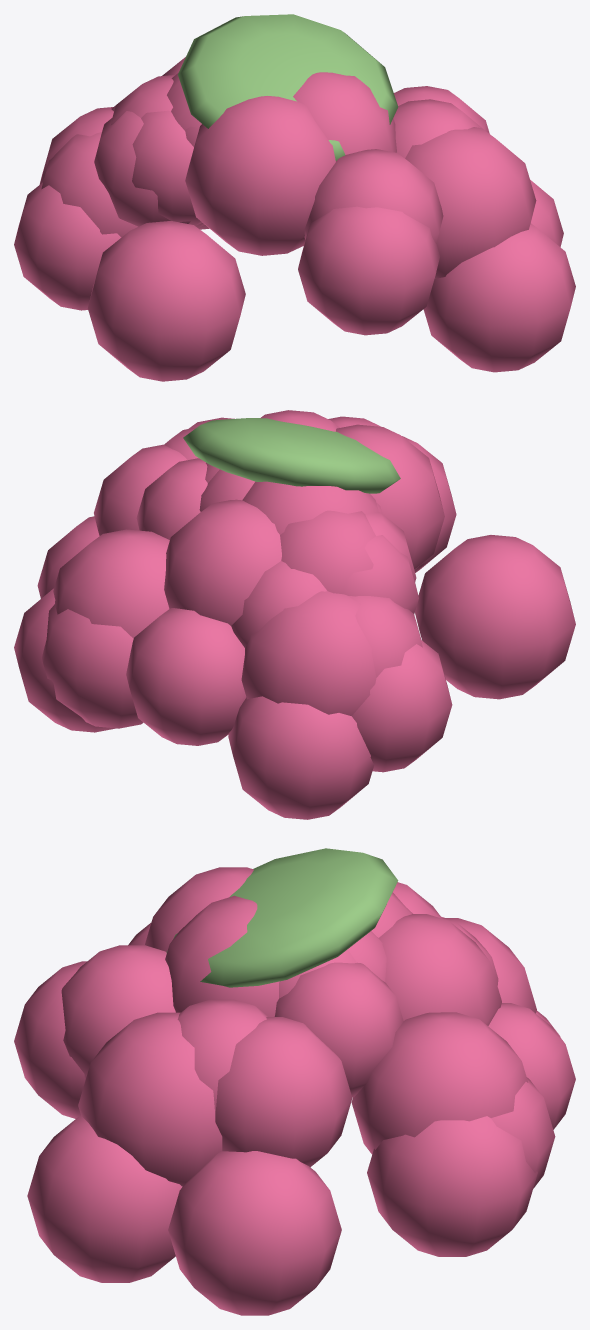
The model's file is Raspberry.glb.
The picture shows the model from 3 angles, top to bottom: view 1: azimuth 30°, elevation 25°; view 2: azimuth 150°, elevation 25°; view 3: azimuth 270°, elevation 25°; orthographic projection. The views are drawn at different scales.
Parts seen in each view (by area): view 1: Raspberry; view 2: Raspberry; view 3: Raspberry.
Part boxes in pixels (box(x1,y1,x2,y2)): Raspberry: box(14, 14, 575, 381); Raspberry: box(14, 410, 575, 819); Raspberry: box(14, 848, 575, 1315).
Bounding box in the file's own units: 0.5309 × 0.3203 × 0.4863.
